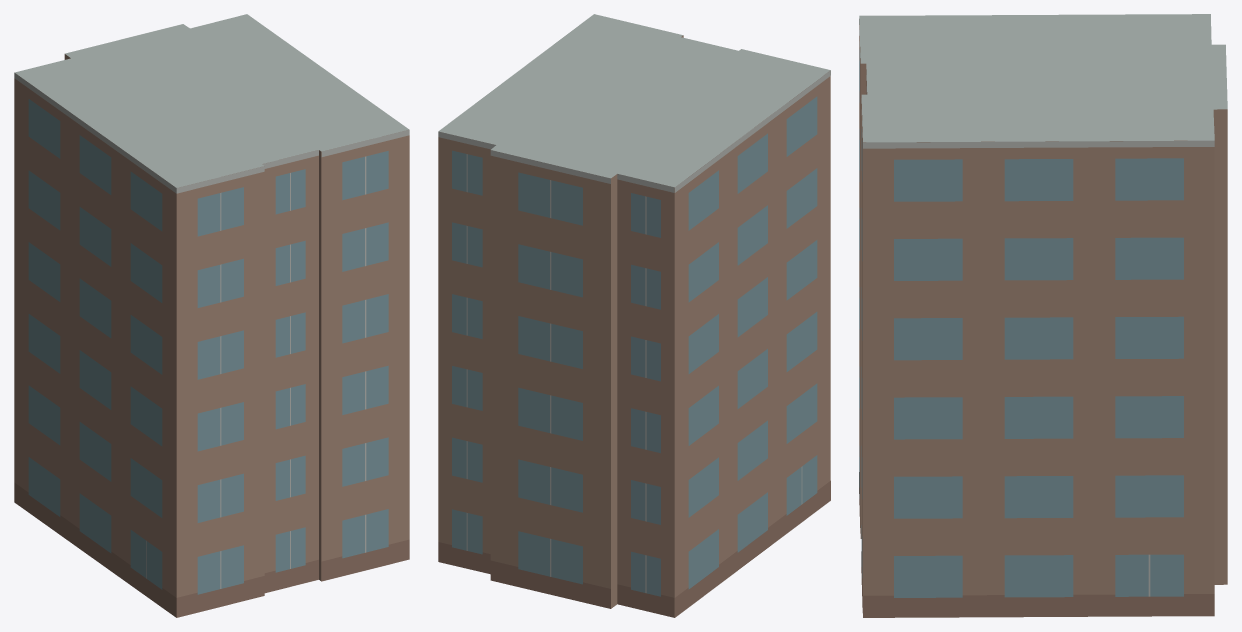
Rendered from survey-upis-32559527.glb.
3 views of the same model, side by side, from view 1: azimuth 30°, elevation 25°; view 2: azimuth 150°, elevation 25°; view 3: azimuth 270°, elevation 25° (orthographic). The views are drawn at different scales.
Visible parts, largest first — view 1: survey-upis-32559527.tmp; view 2: survey-upis-32559527.tmp; view 3: survey-upis-32559527.tmp.
Part boxes in pixels (left/top/right/bottom): survey-upis-32559527.tmp: left=14, top=14, right=409, bottom=617; survey-upis-32559527.tmp: left=438, top=14, right=830, bottom=617; survey-upis-32559527.tmp: left=859, top=14, right=1227, bottom=617.
Bounding box in the file's own units: 10.75 × 18.55 × 13.04.
